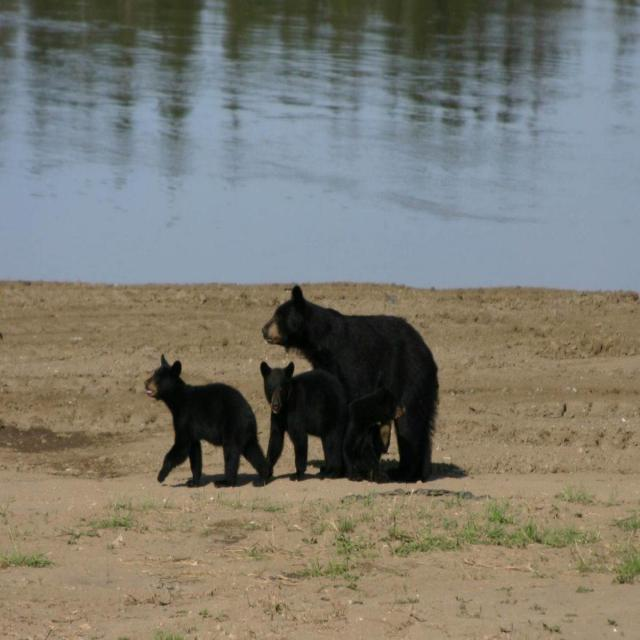Bear: (261, 286, 436, 484), (141, 360, 268, 489), (261, 365, 341, 483)
